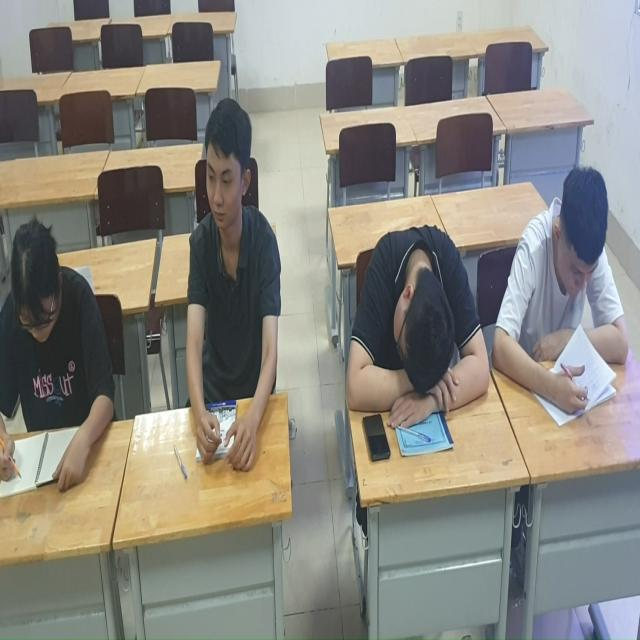read: (163, 99, 289, 472), (497, 155, 633, 422), (1, 215, 123, 499)
sleep: (340, 206, 489, 435)
